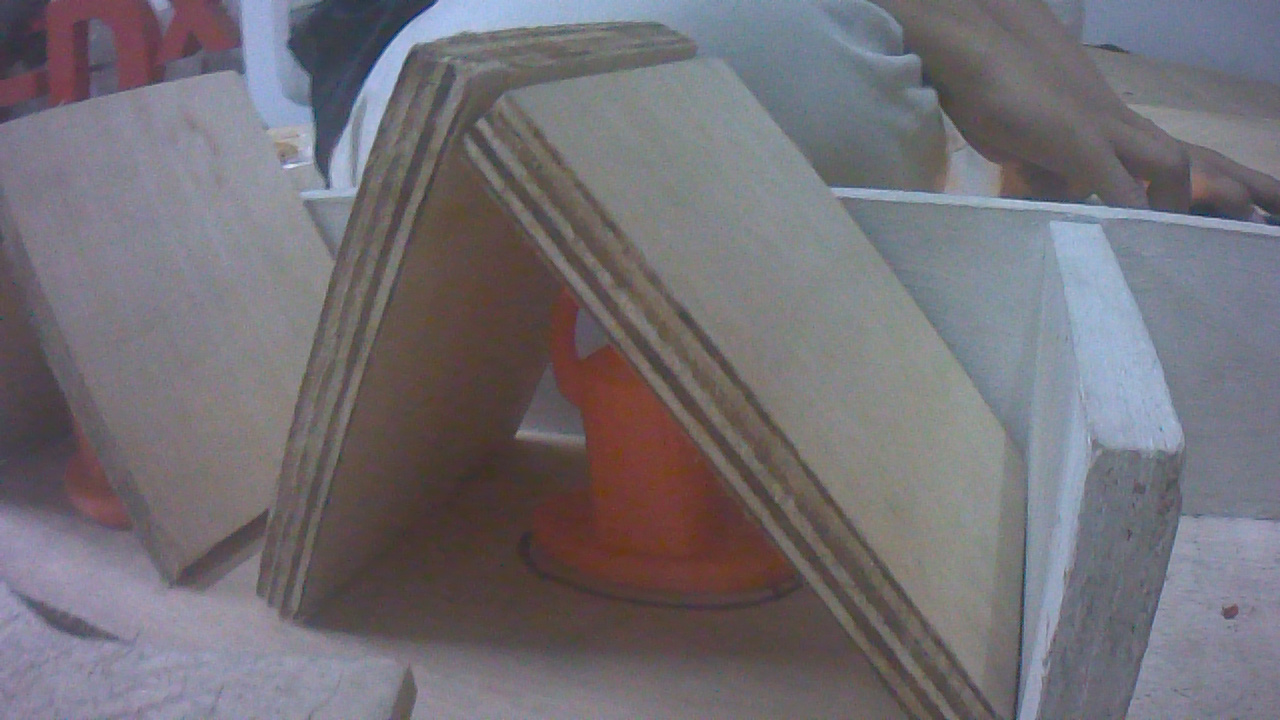real: (523, 256, 802, 599)
